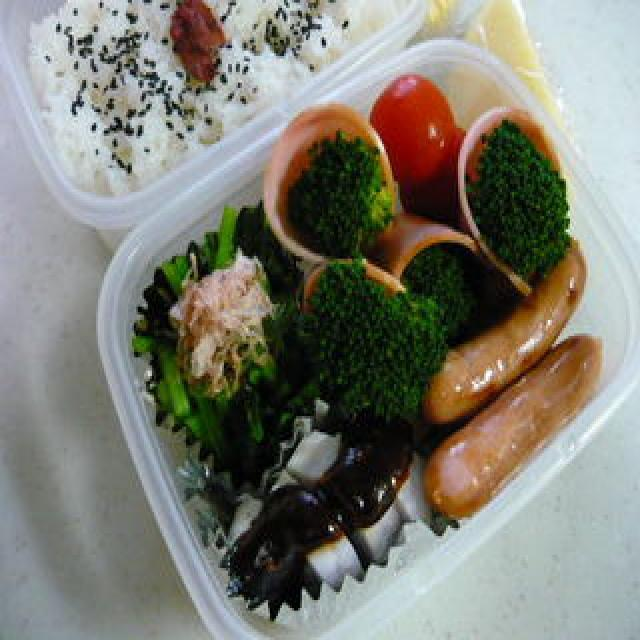Sausage: (426, 264, 604, 524)
